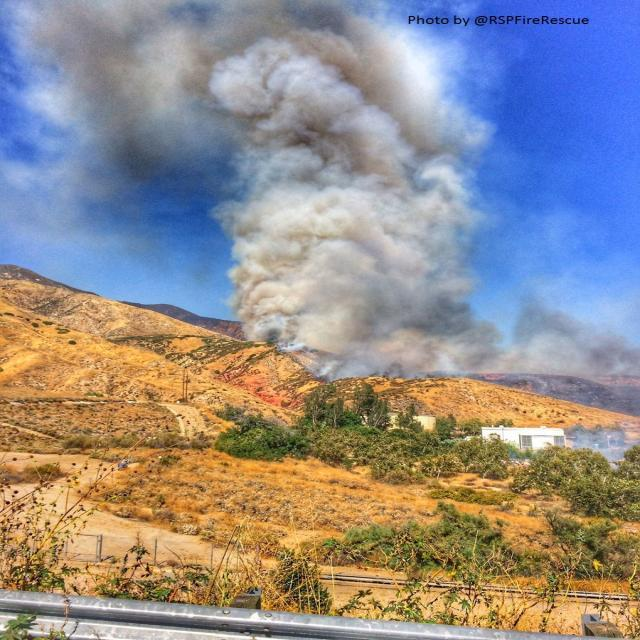Smoke: (130, 0, 450, 385)
